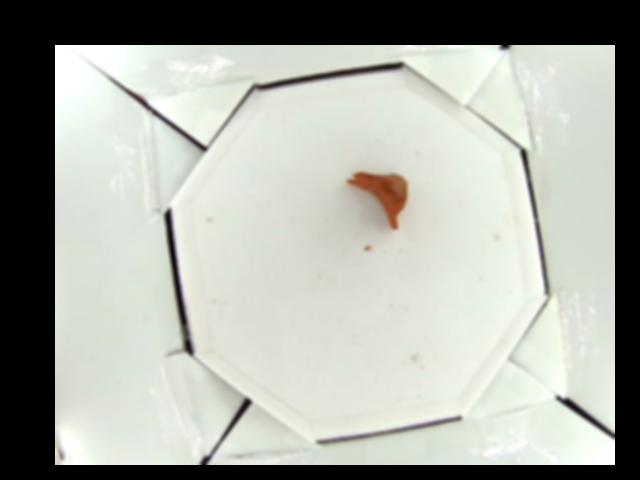Brisk: (343, 170, 407, 229)
